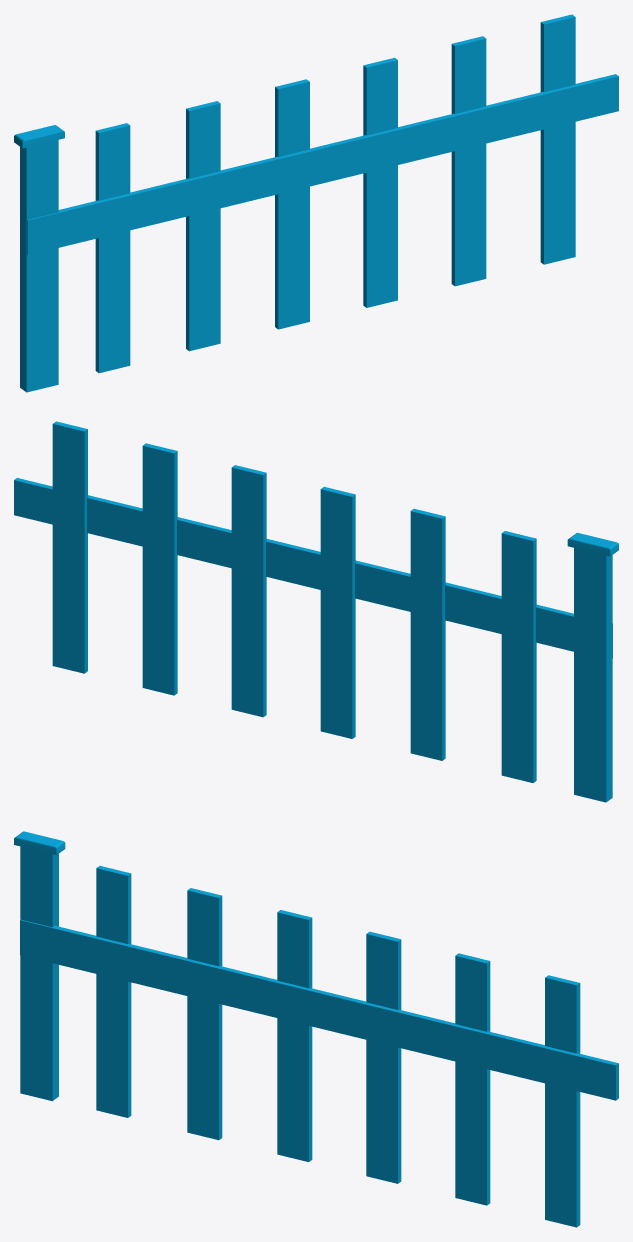
File: Garden_Fence_01A_Lod0.fbx
3 views of the same model, one above another, from view 1: azimuth 30°, elevation 25°; view 2: azimuth 150°, elevation 25°; view 3: azimuth 330°, elevation 25° (orthographic).
Visible parts, largest first — view 1: Garden_Fence_01A_Lod0; view 2: Garden_Fence_01A_Lod0; view 3: Garden_Fence_01A_Lod0.
Boxes of the visible parts, x1,y1,x2,y2 form: Garden_Fence_01A_Lod0: (14,14,618,392); Garden_Fence_01A_Lod0: (14,421,618,802); Garden_Fence_01A_Lod0: (14,831,618,1227).
Size of the model in its own units: 309 by 126 by 7.77.
